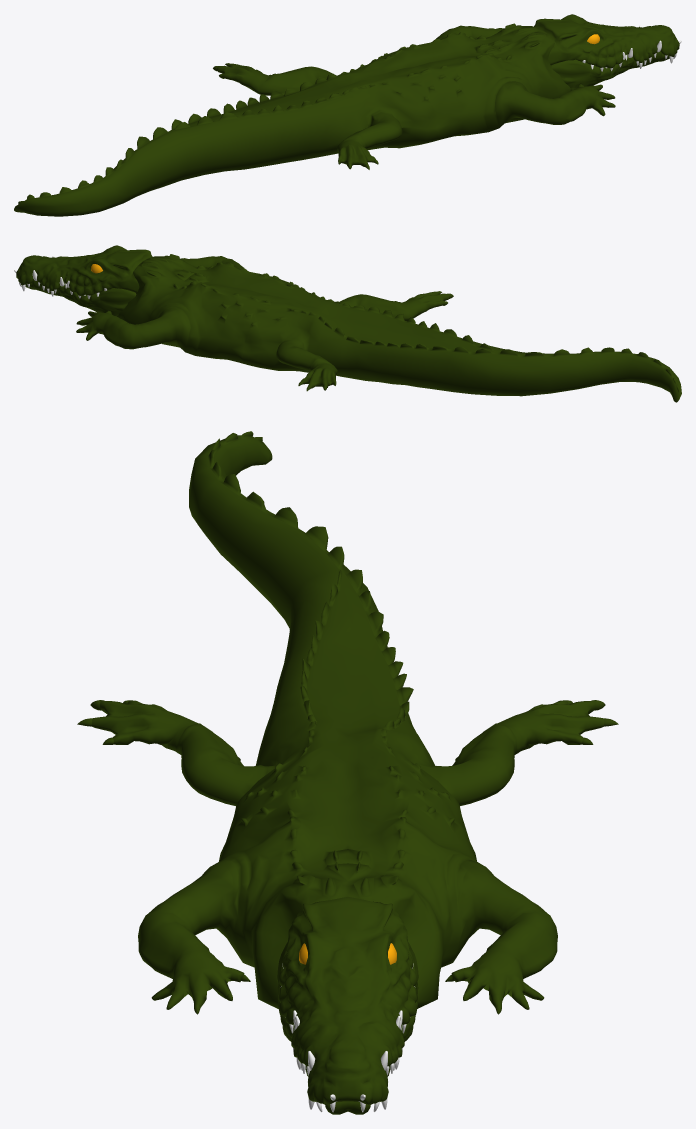
Rendered from croc.obj.
3 renders of one model, top to bottom at view 1: azimuth 30°, elevation 25°; view 2: azimuth 150°, elevation 25°; view 3: azimuth 270°, elevation 25°, orthographic. The views are drawn at different scales.
Visible parts, largest first — view 1: bod, head, jaw; view 2: bod, head, jaw; view 3: bod, head, jaw.
Boxes of the visible parts, x1,y1,x2,y2 form: bod: (14, 23, 615, 216); head: (534, 14, 679, 68); jaw: (551, 51, 669, 90); bod: (76, 254, 681, 402); head: (16, 245, 152, 295); jaw: (25, 280, 136, 316); bod: (77, 431, 618, 1014); head: (278, 896, 417, 1104); jaw: (277, 942, 418, 1114).
Size of the model in its own units: 2 by 0.2133 by 0.7313.
